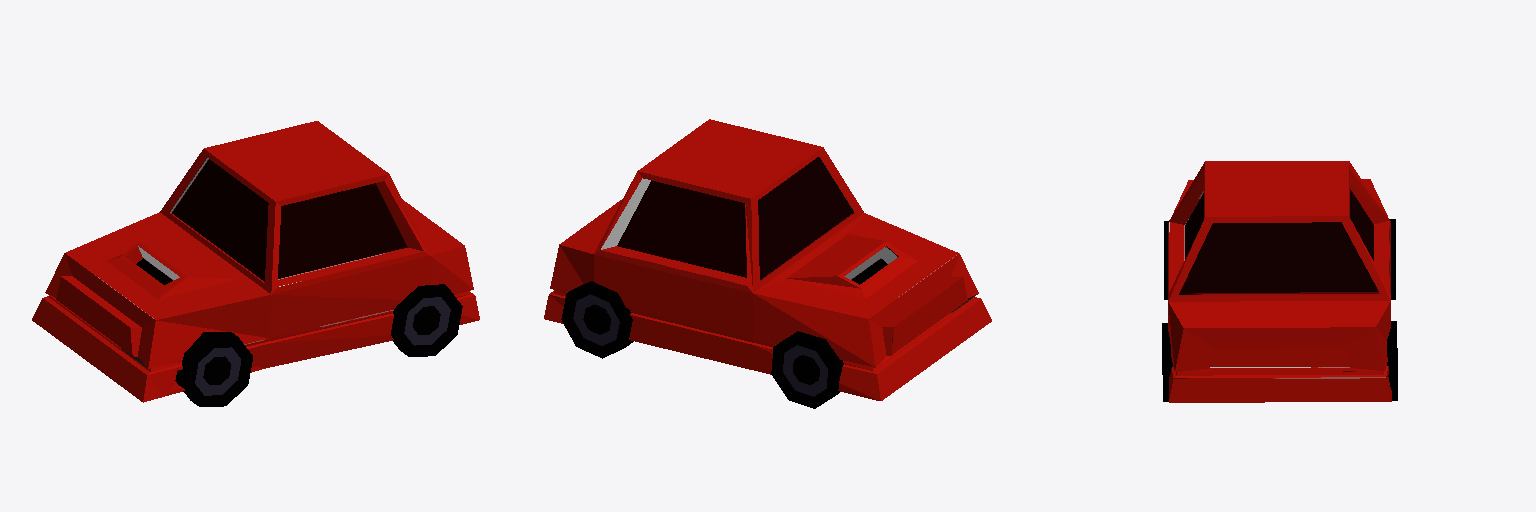
3 views of the same model, side by side, from view 1: azimuth 30°, elevation 25°; view 2: azimuth 150°, elevation 25°; view 3: azimuth 270°, elevation 25° (orthographic).
Parts seen in each view (by area): view 1: Car-1_Cylinder.002; view 2: Car-1_Cylinder.002; view 3: Car-1_Cylinder.002.
Boxes of the visible parts, <box> form: Car-1_Cylinder.002: <box>32,121,479,406</box>; Car-1_Cylinder.002: <box>544,119,991,408</box>; Car-1_Cylinder.002: <box>1162,161,1397,402</box>.
Size of the model in its own units: 0.9306 by 0.4569 by 0.562.
5 materials, 1 textured.